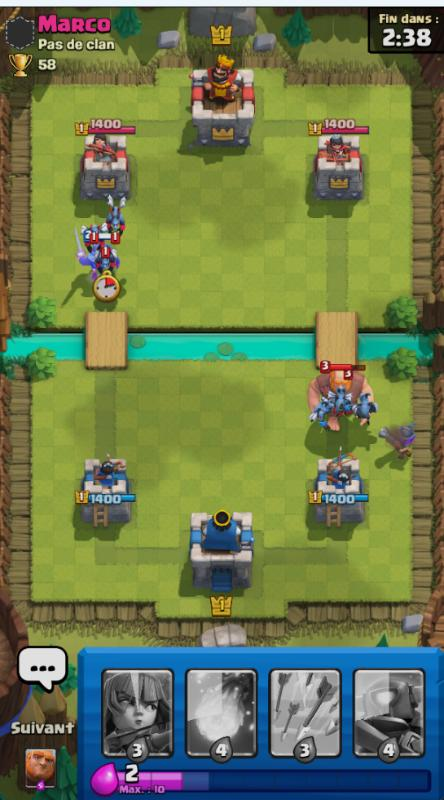chevalier: (73, 225, 121, 281)
gargouille: (105, 194, 128, 239), (354, 393, 378, 428), (82, 219, 106, 253), (310, 396, 333, 431), (327, 386, 352, 417), (94, 243, 117, 274)
geant: (313, 369, 375, 429)
mousquetaire: (379, 419, 417, 463)
